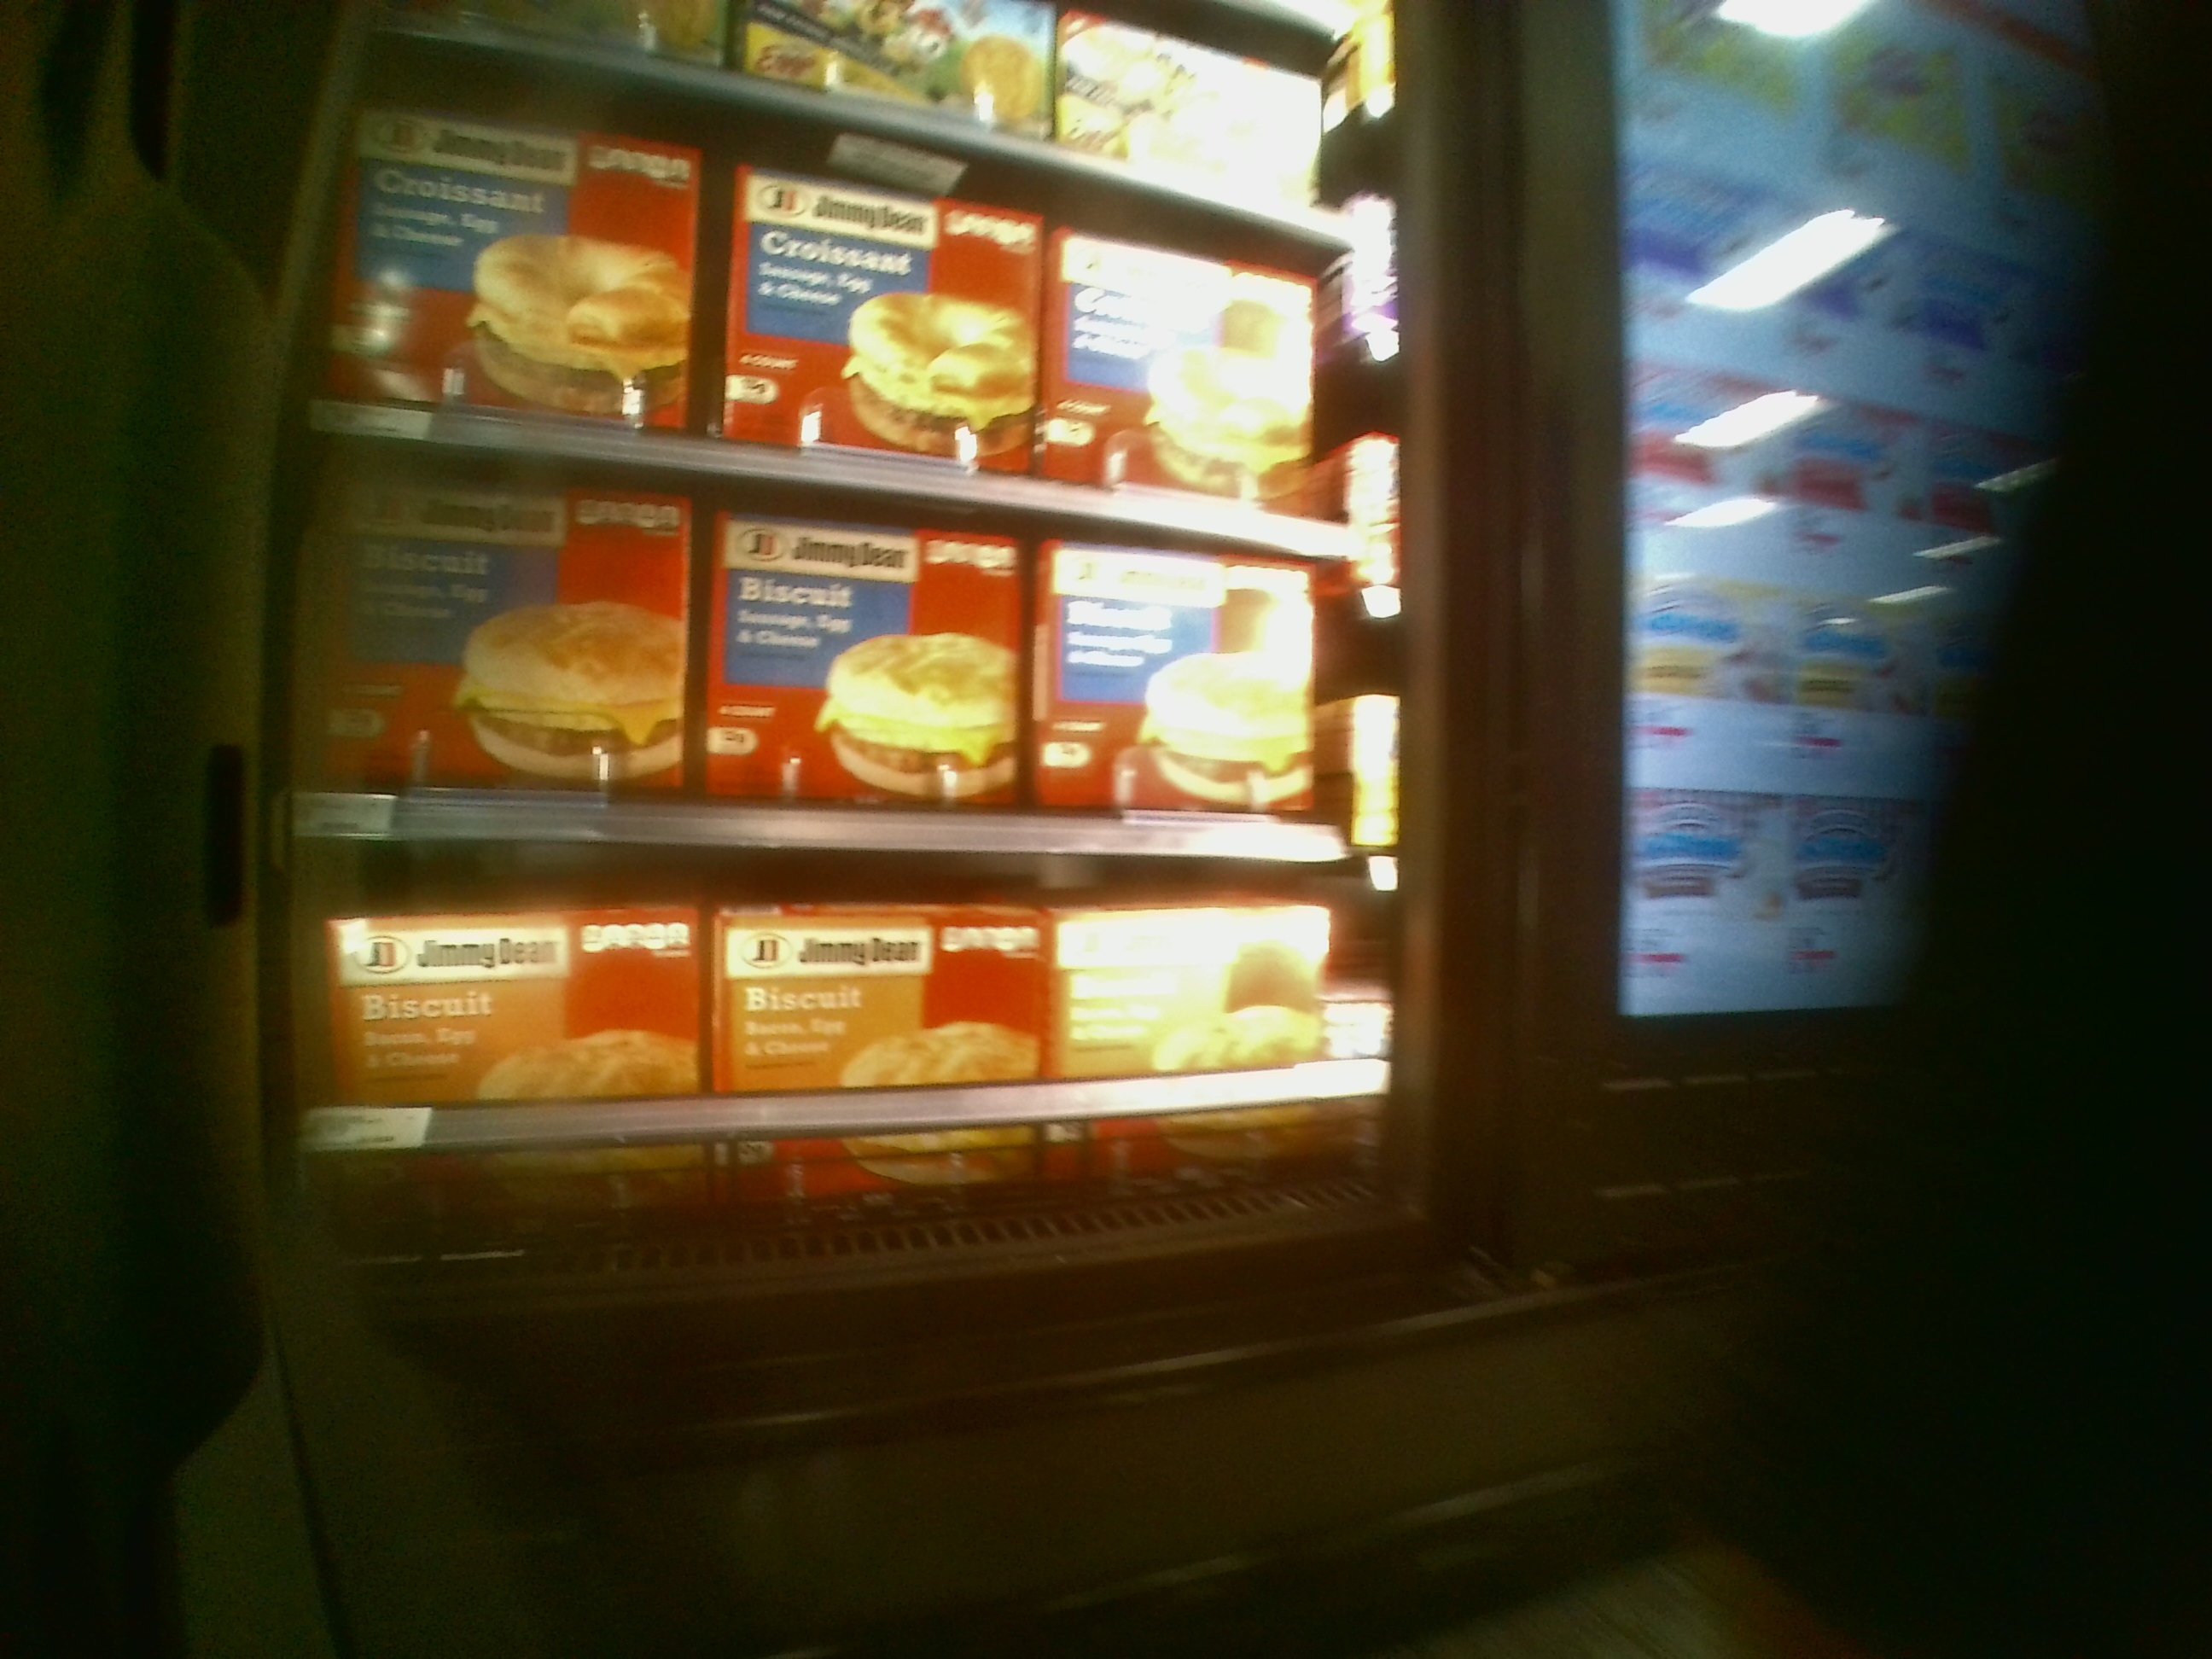shelf: (301, 427, 1390, 852), (279, 847, 1407, 1229)
